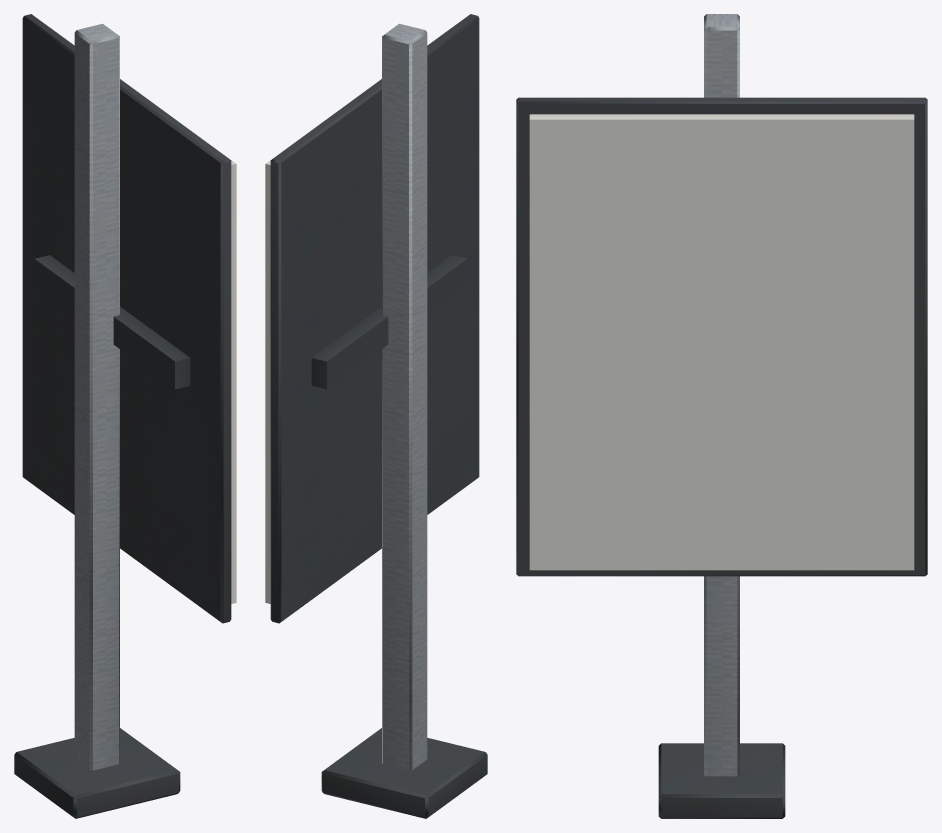
File: kilometre-board_high.glb
3 views of the same model, side by side, from view 1: azimuth 30°, elevation 25°; view 2: azimuth 150°, elevation 25°; view 3: azimuth 270°, elevation 25° (orthographic). The views are drawn at different scales.
Parts seen in each view (by area): view 1: dark-steel, galvanised, board-face; view 2: dark-steel, galvanised, board-face; view 3: board-face, dark-steel, galvanised.
Boxes of the visible parts, x1=… form: dark-steel: x1=14, y1=14, x2=231, y2=818; galvanised: x1=74, y1=23, x2=119, y2=770; board-face: x1=49, y1=27, x2=236, y2=603; dark-steel: x1=270, y1=14, x2=487, y2=818; galvanised: x1=382, y1=23, x2=427, y2=770; board-face: x1=265, y1=27, x2=452, y2=603; board-face: x1=529, y1=114, x2=914, y2=570; dark-steel: x1=516, y1=97, x2=927, y2=818; galvanised: x1=704, y1=14, x2=739, y2=776.
Bounding box in the file's own units: 0.28 × 1.89 × 0.91.
Materials: 3 (2 with a texture image).
